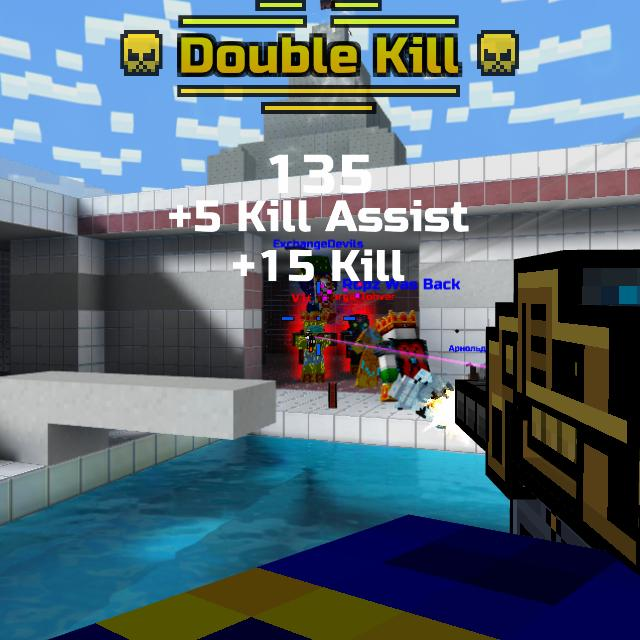Enemy: (290, 311, 334, 383), (341, 315, 371, 370)
